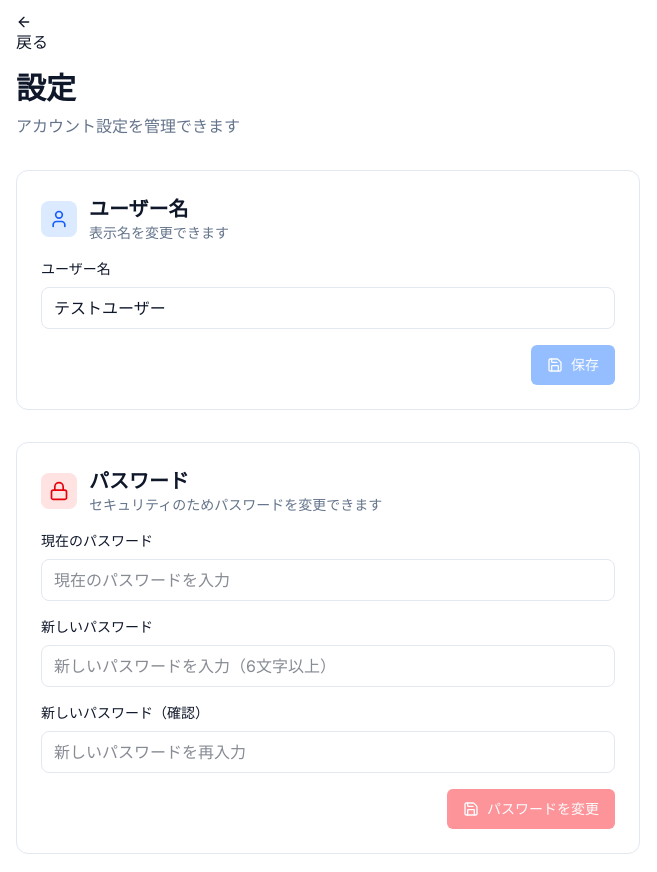
Test: SettingsPage › should update password successfully
// Fill password fields
Type "currentPass123" into the password field with placeholder "現在のパスワードを入力". click: point(328, 580)
box: [41, 559, 615, 601]
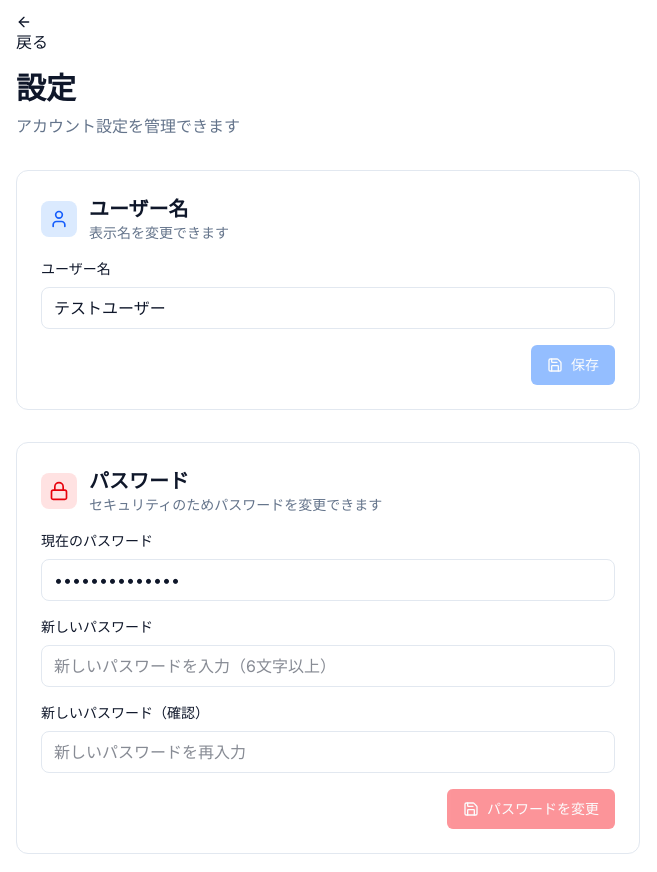
Type "newPass123456" into the password field with placeholder "新しいパスワードを入力（6文字以上）". click: point(328, 666)
box: [41, 645, 615, 687]
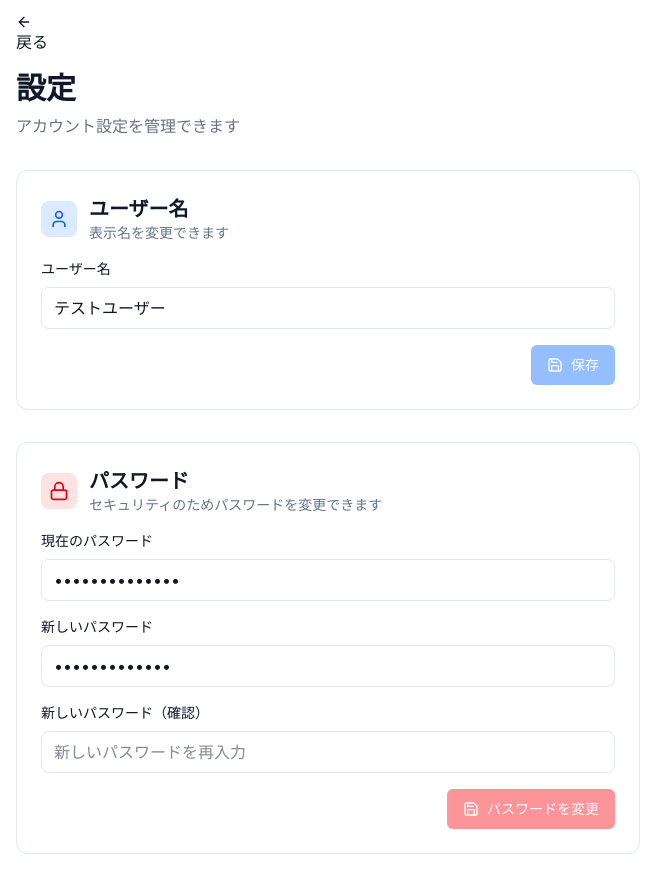
Type "newPass123456" into the password field with placeholder "新しいパスワードを再入力". click: point(328, 752)
box: [41, 731, 615, 773]
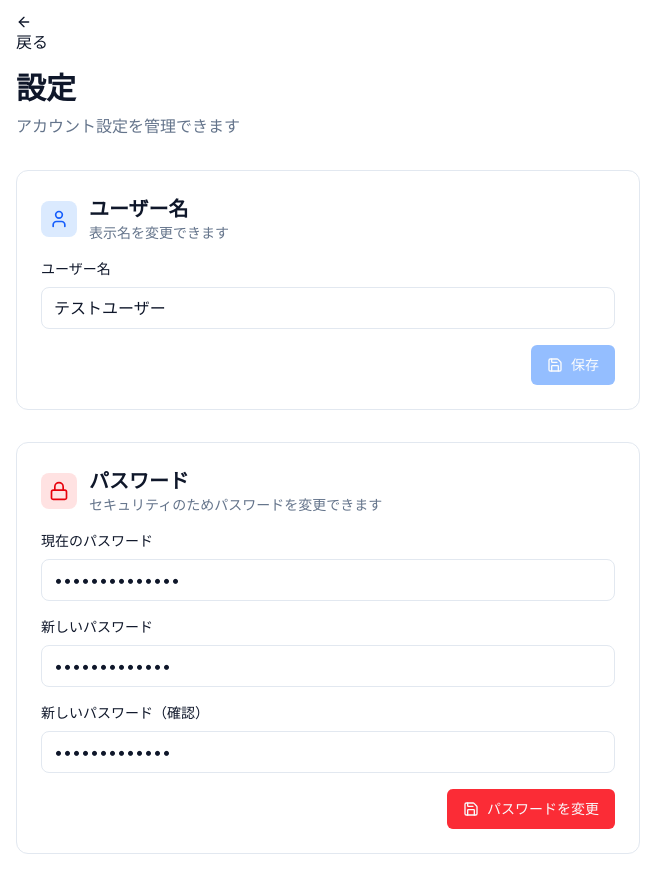
// Click update password button
Click the button "パスワードを変更". click: point(531, 809)
box: [447, 789, 615, 829]
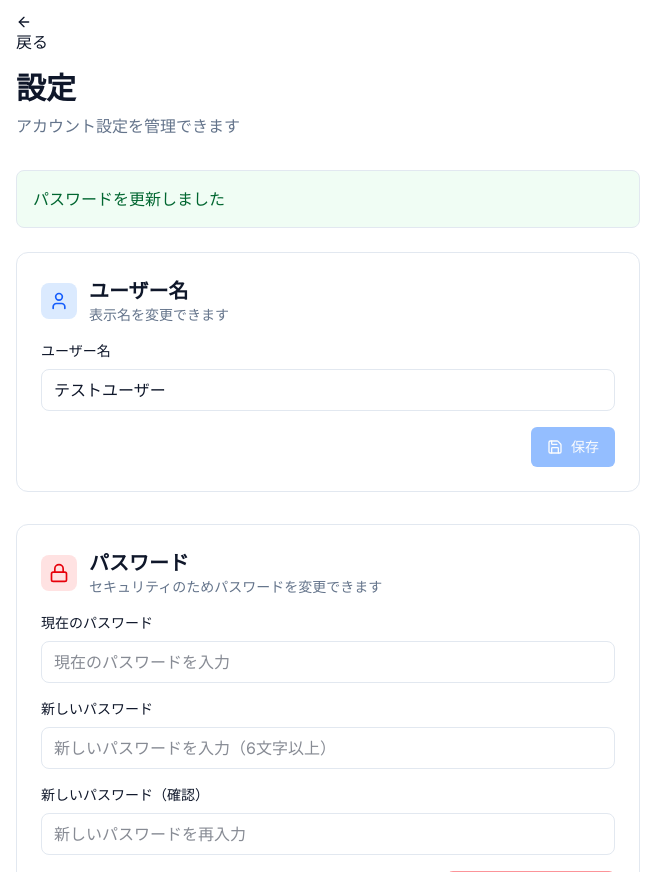
Expected: the text "パスワードを更新しました" is shown, [16, 170, 640, 228]
Expected: the password field with placeholder "現在のパスワードを入力" is empty, [41, 641, 615, 683]
Expected: the password field with placeholder "新しいパスワードを入力（6文字以上）" is empty, [41, 727, 615, 769]
